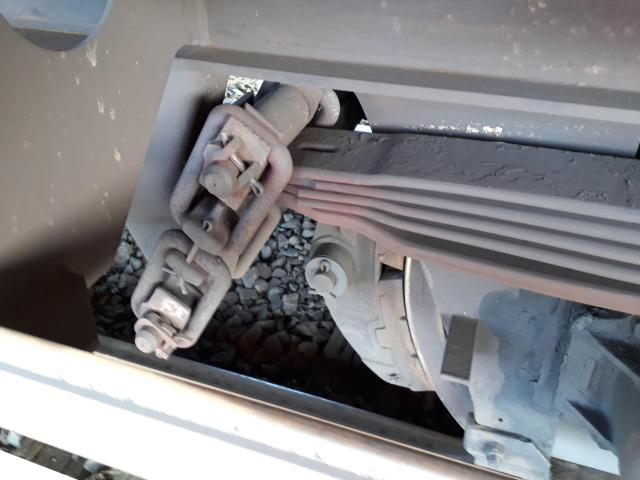blattfederww: (309, 116, 640, 290)
